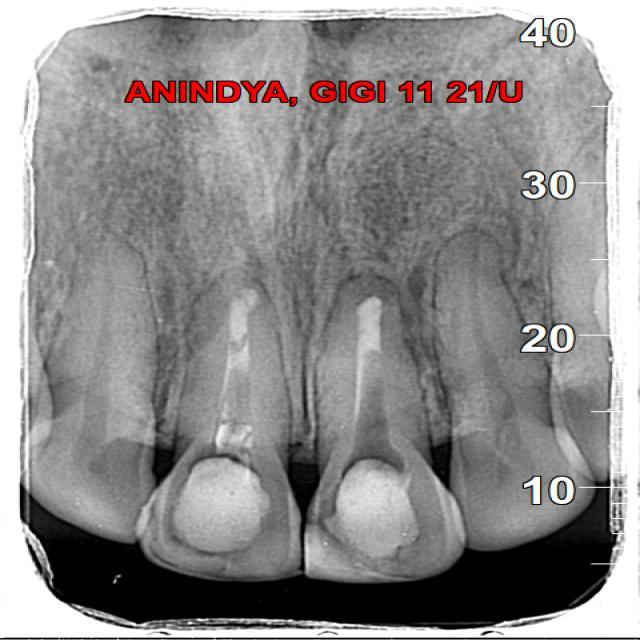individual-tooth-8tto: (293, 277, 477, 579), (136, 273, 310, 591), (433, 235, 591, 542), (20, 224, 162, 538)
